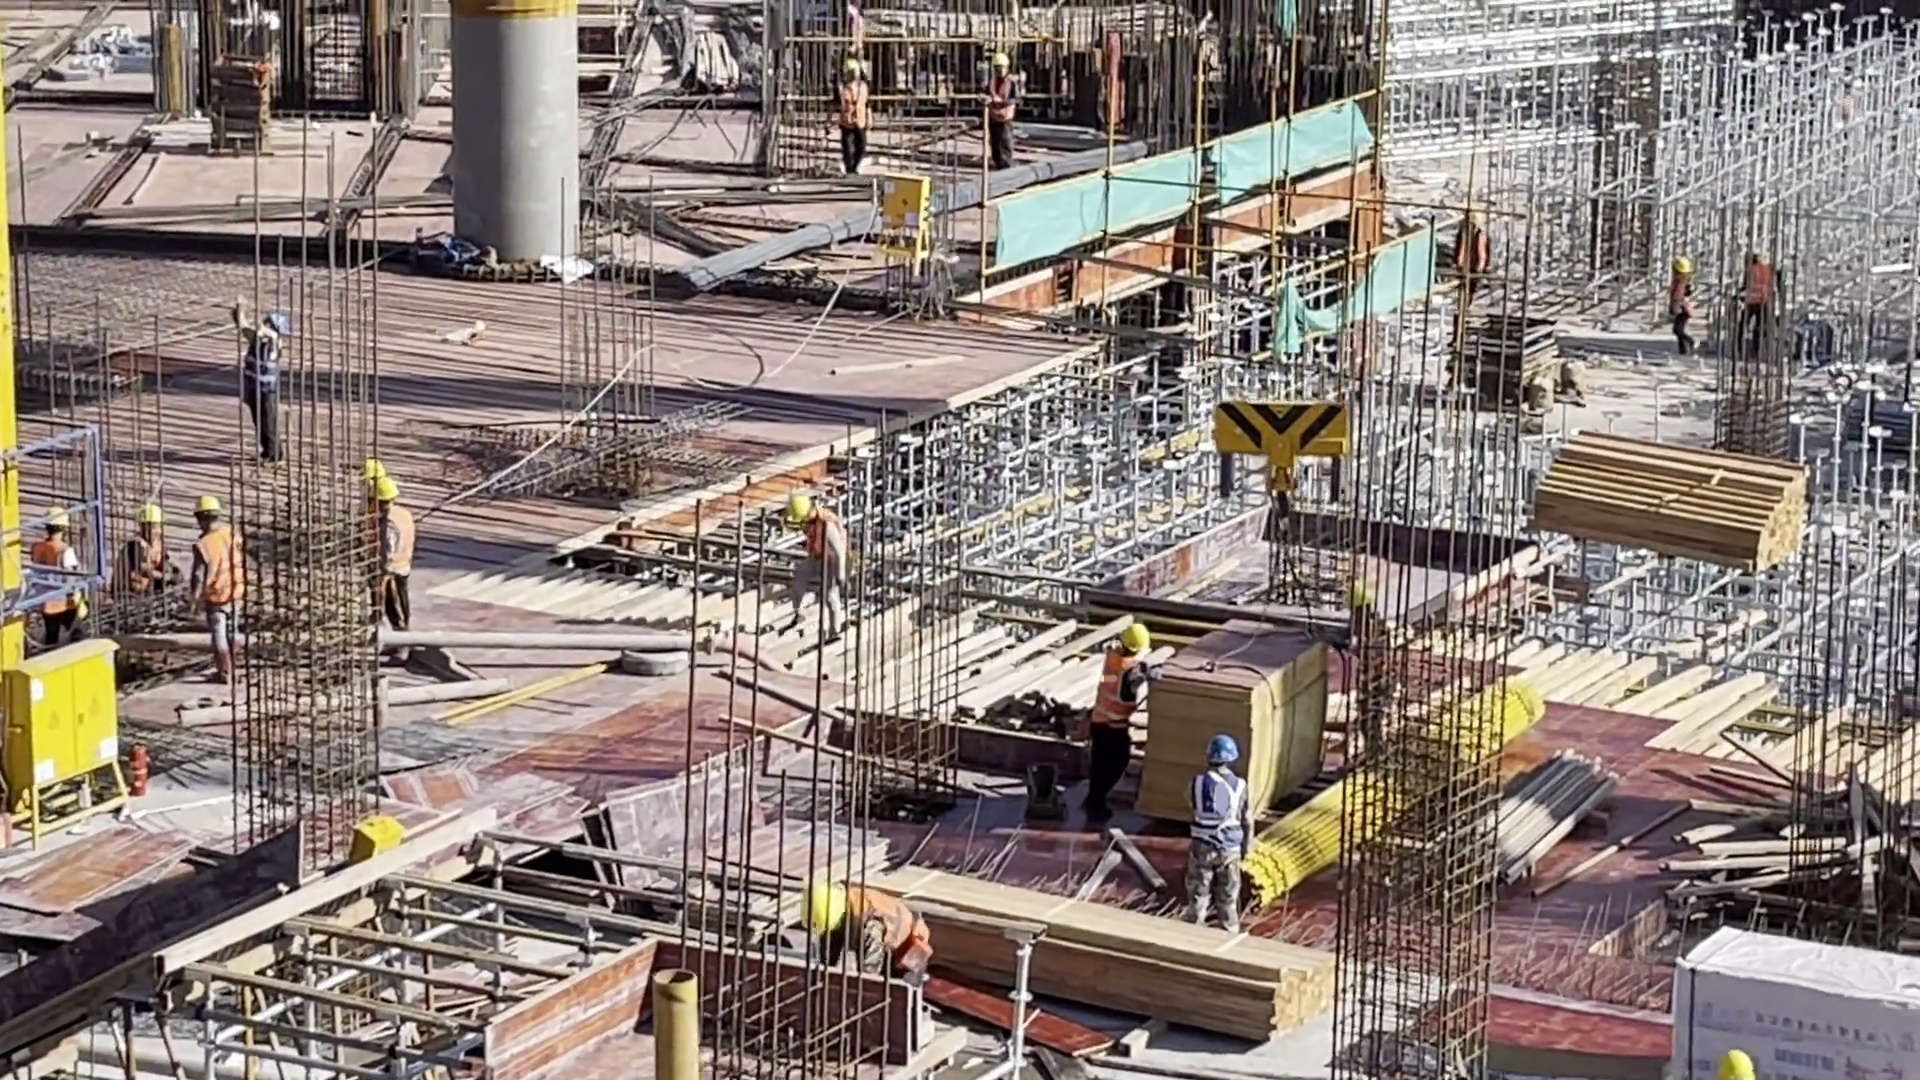helmet: (809, 879, 848, 926), (1341, 569, 1394, 601), (1201, 729, 1243, 767), (1716, 1037, 1752, 1080), (354, 452, 384, 489), (791, 482, 819, 522), (973, 51, 1013, 77), (844, 54, 876, 82), (273, 306, 293, 349), (1751, 244, 1779, 274), (1114, 624, 1139, 657), (43, 511, 71, 541), (128, 494, 153, 526), (194, 497, 226, 522), (1463, 201, 1488, 222), (1663, 256, 1683, 272)
person: (797, 880, 945, 997), (1075, 623, 1161, 815), (1177, 731, 1248, 929), (235, 288, 301, 463), (781, 486, 848, 647), (1346, 579, 1402, 756), (25, 509, 89, 647), (115, 499, 188, 607), (197, 490, 235, 671), (377, 482, 422, 633), (982, 40, 1025, 169), (1750, 224, 1781, 363), (1666, 255, 1706, 359), (354, 451, 385, 585), (1456, 203, 1487, 318), (839, 53, 866, 173)
vest: (859, 866, 919, 962), (211, 529, 261, 614), (339, 487, 381, 577), (28, 542, 83, 599), (1104, 651, 1141, 731), (1184, 761, 1219, 844), (256, 324, 288, 399), (388, 504, 418, 577), (839, 79, 869, 151), (1369, 616, 1398, 686), (1744, 251, 1778, 311), (978, 74, 1008, 136), (1451, 227, 1474, 282), (149, 532, 164, 594), (1671, 274, 1679, 317)
